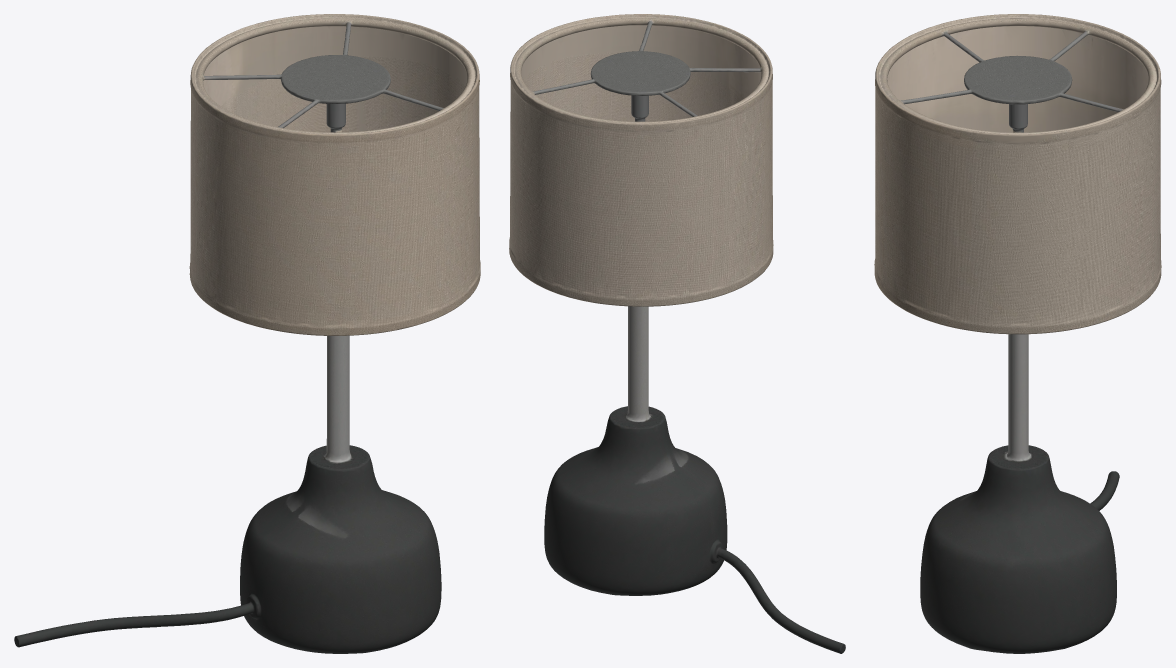
Rendered from lamp.glb.
3 renders of one model, left to right at view 1: azimuth 30°, elevation 25°; view 2: azimuth 150°, elevation 25°; view 3: azimuth 270°, elevation 25°, orthographic. The views are drawn at different scales.
Visible parts, largest first — view 1: derive_bauhaus_lamp.001; view 2: derive_bauhaus_lamp.001; view 3: derive_bauhaus_lamp.001.
Boxes of the visible parts, x1,y1,x2,y2 form: derive_bauhaus_lamp.001: [14, 14, 480, 653]; derive_bauhaus_lamp.001: [509, 14, 845, 653]; derive_bauhaus_lamp.001: [874, 14, 1161, 653].
Size of what is drawn, in the model's own units: 0.4644 by 0.6099 by 0.2934.
Materials: 1 (1 with a texture image).
